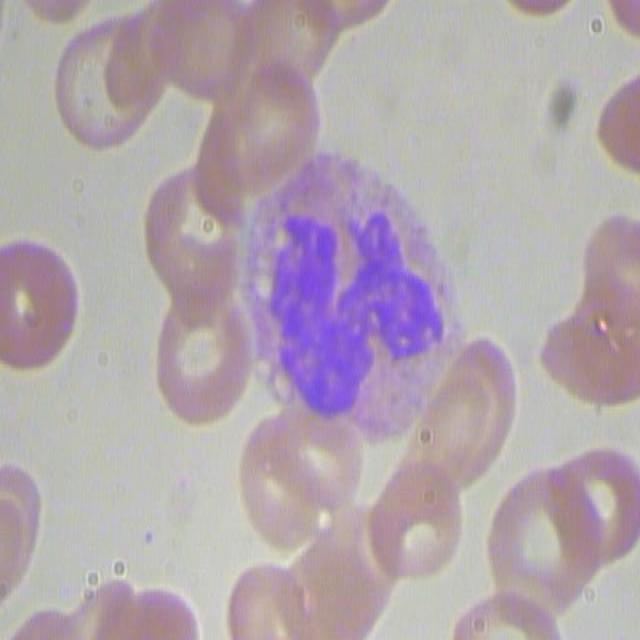RBC: (236, 409, 360, 557), (487, 461, 602, 619), (50, 12, 164, 152), (414, 328, 516, 483), (152, 288, 256, 427), (209, 61, 323, 185), (17, 563, 198, 640), (364, 463, 464, 589), (144, 170, 245, 292), (310, 534, 422, 640), (215, 2, 340, 96), (535, 301, 637, 412), (148, 1, 254, 107), (556, 441, 640, 573), (0, 233, 79, 372), (580, 208, 640, 333), (446, 582, 570, 640), (220, 561, 308, 640), (0, 461, 42, 600), (598, 69, 640, 180)
WBC: (233, 157, 450, 452)
